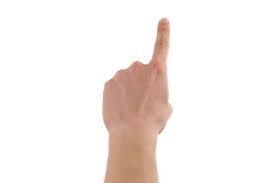hand: (84, 10, 201, 144)
